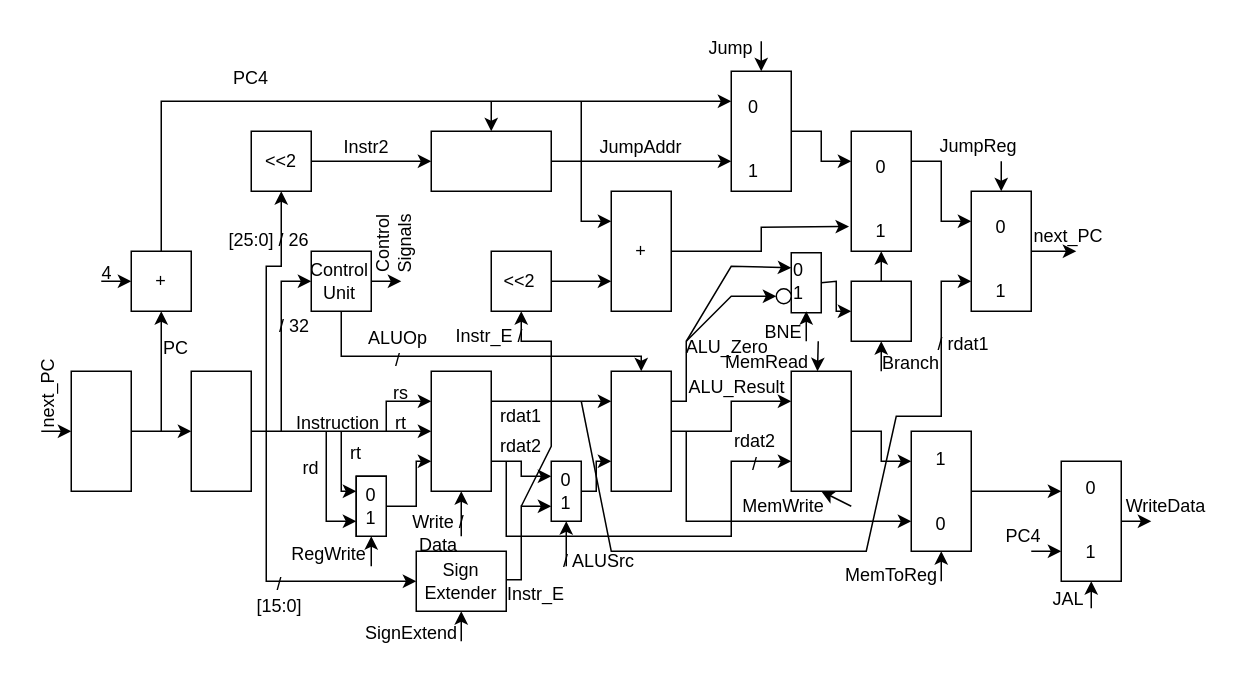
Some shapes in this 1236 by 681 pixel diagram are drawn without their labels. The shapes that lost their labels are listed below. From the top down, each one's centre as x and y in pixels, then its label:
At (490,160): "Concat".
At (880,310): "And".
At (220,430): "Instr Mem".
At (460,430): "Register File".
At (640,430): "ALU".
At (820,430): "Data Mem".
